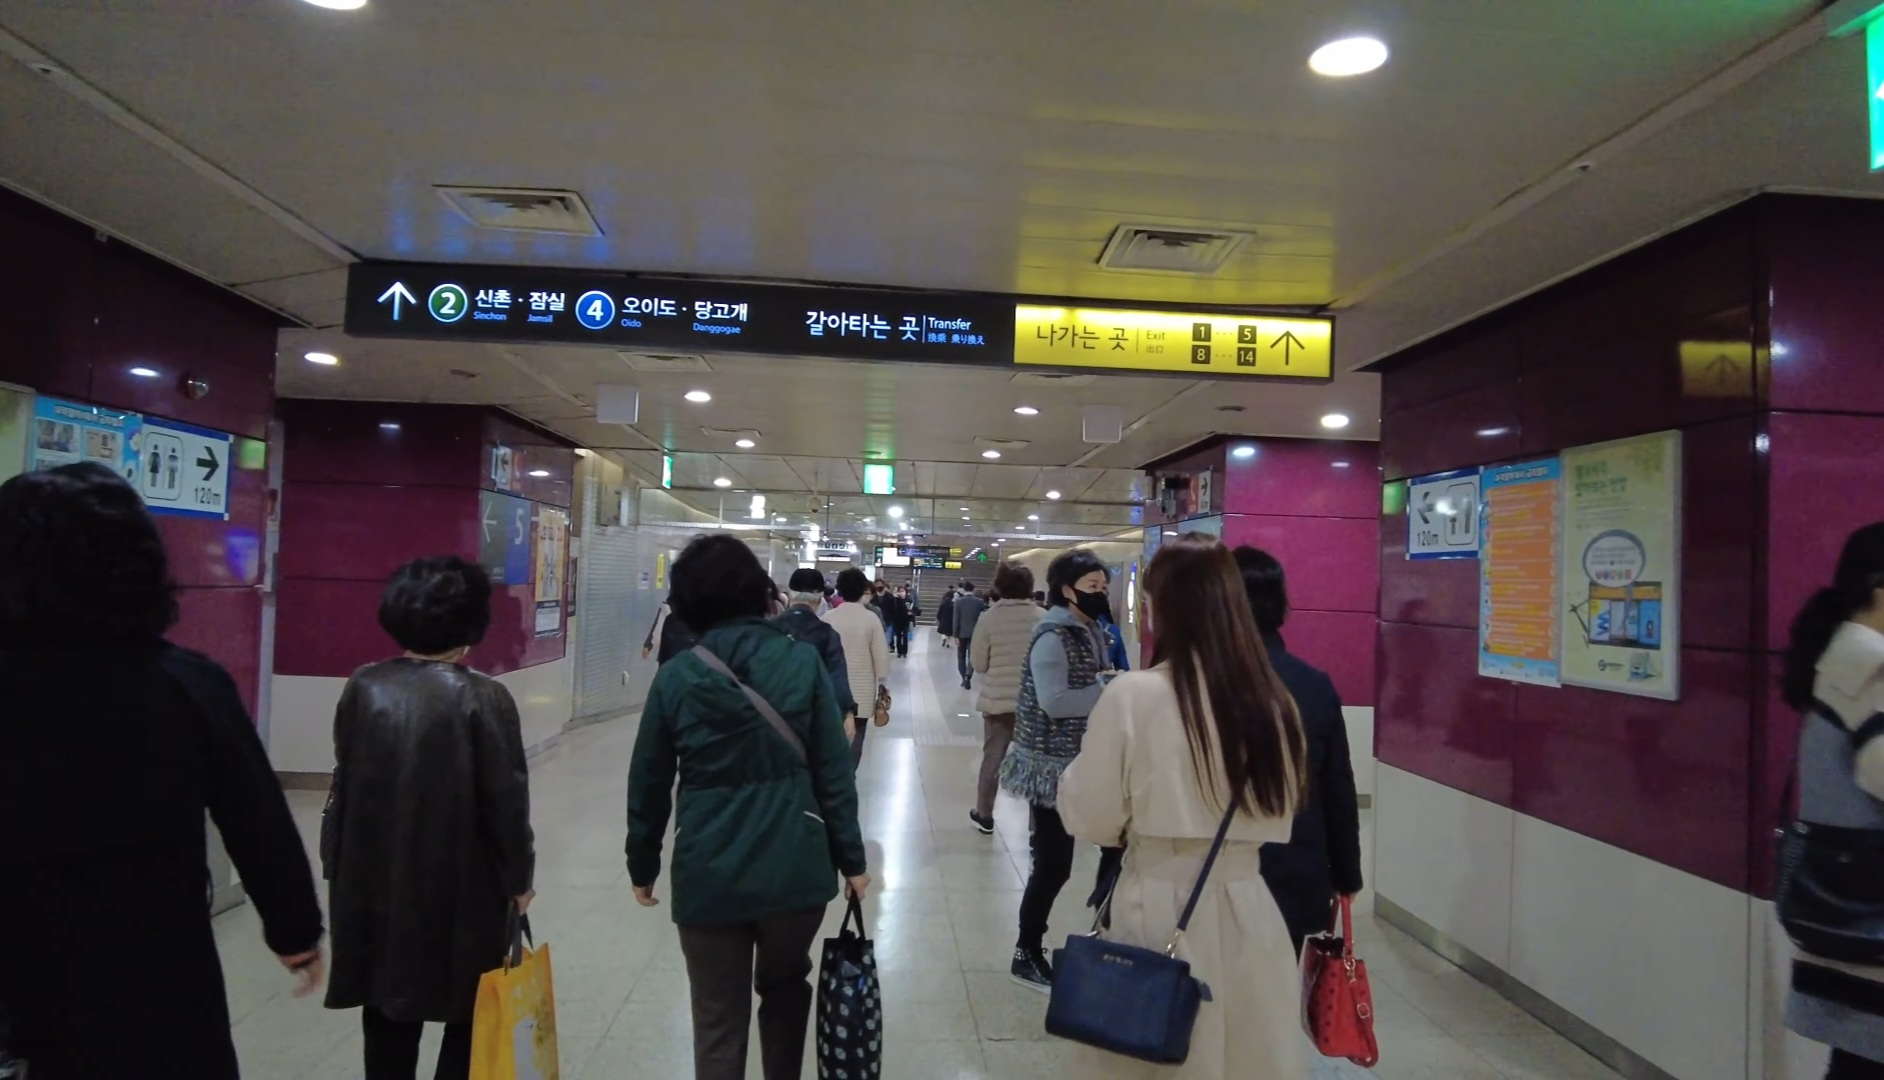signBoard: (344, 252, 1337, 387)
